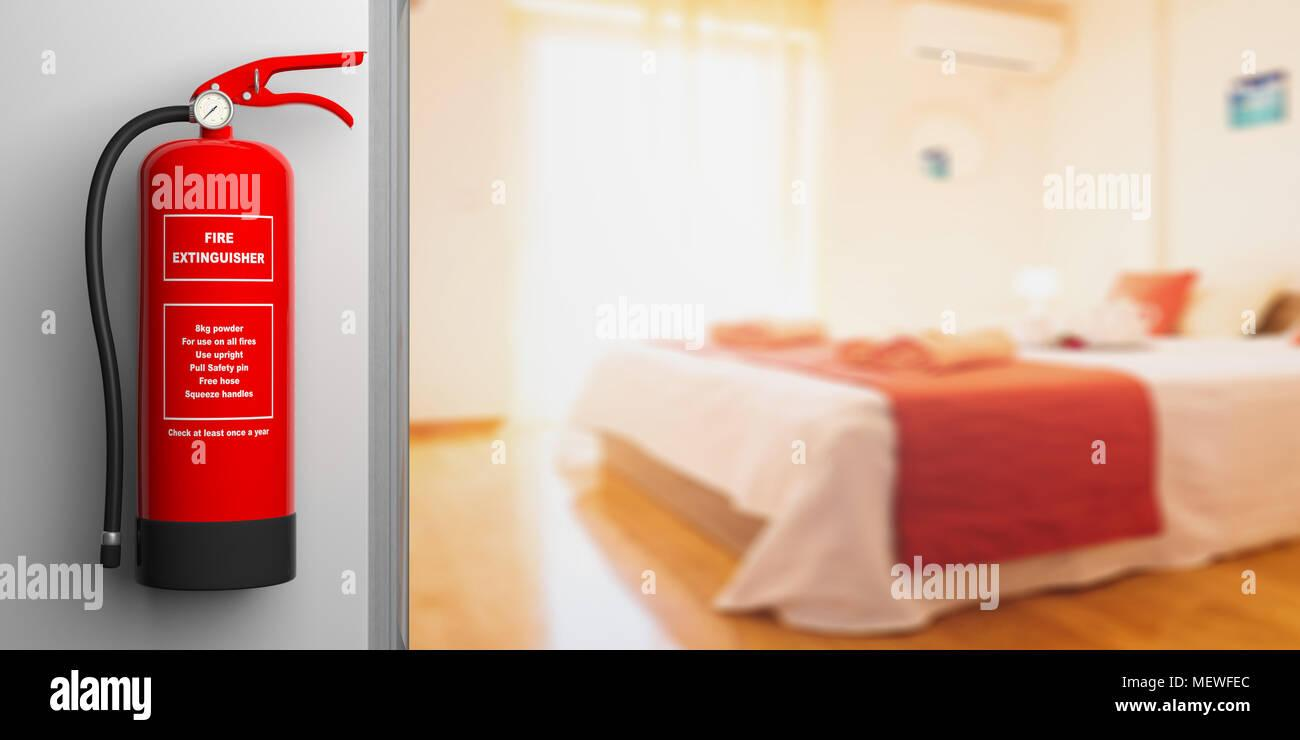wall-mounted: (40, 44, 370, 597)
